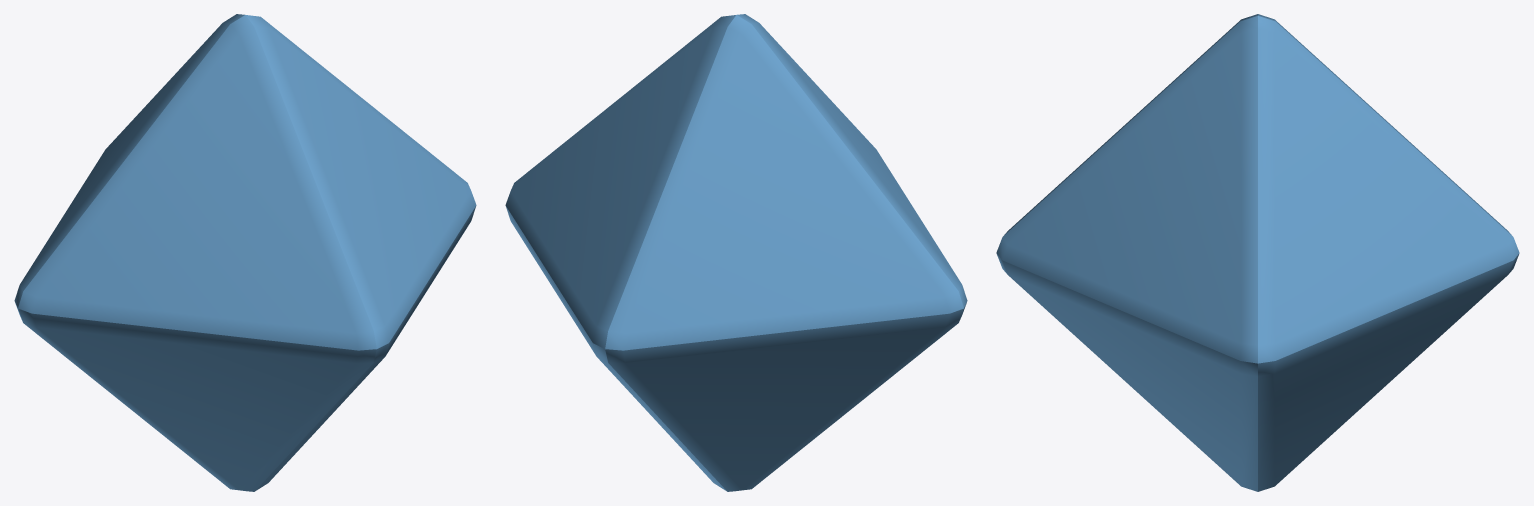
Rendered from Barrier.fbx.
3 views of the same model, side by side, from view 1: azimuth 30°, elevation 25°; view 2: azimuth 150°, elevation 25°; view 3: azimuth 270°, elevation 25° (orthographic).
Parts seen in each view (by area): view 1: pPlatonic1; view 2: pPlatonic1; view 3: pPlatonic1.
Boxes of the visible parts, bbox=[...] form: pPlatonic1: bbox=[14, 14, 476, 491]; pPlatonic1: bbox=[505, 14, 967, 491]; pPlatonic1: bbox=[996, 14, 1519, 491].
Size of the model in its own units: 6.72 by 6.72 by 6.72.
